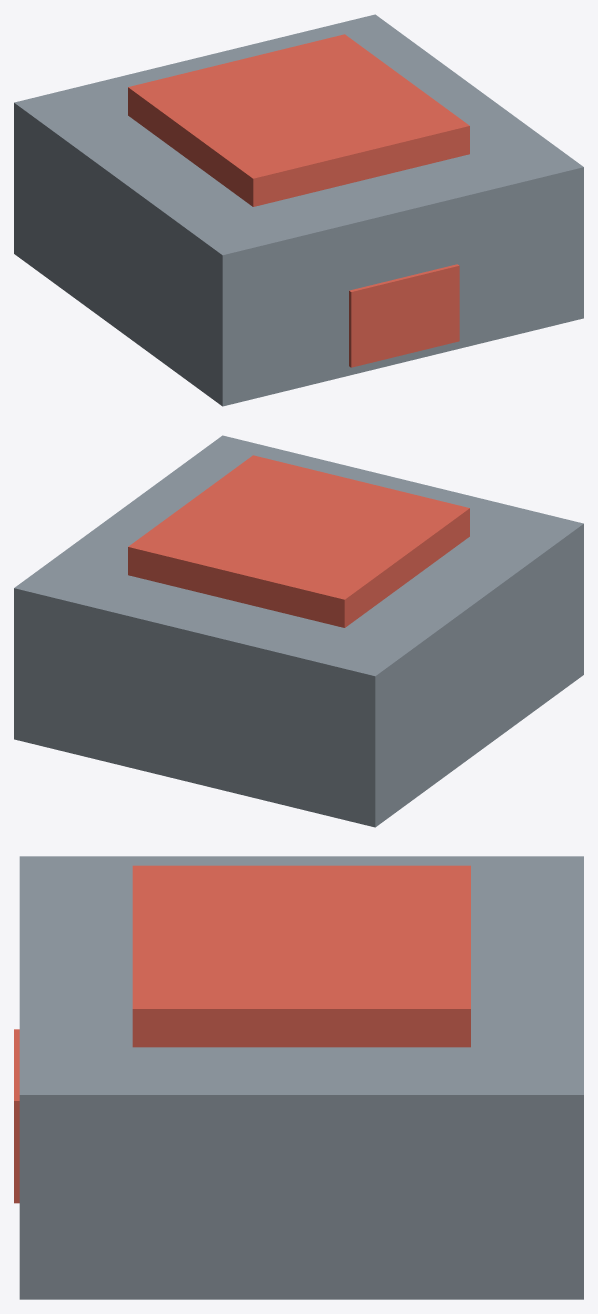
The model's file is SU_NavalYard_LOD0.glb.
3 renders of one model, top to bottom at view 1: azimuth 30°, elevation 25°; view 2: azimuth 150°, elevation 25°; view 3: azimuth 270°, elevation 25°, orthographic. The views are drawn at different scales.
Parts seen in each view (by area): view 1: EntranceGate; view 2: EntranceGate; view 3: EntranceGate.
Part boxes in pixels (box(x1,y1,x2,y2)): EntranceGate: box(14, 14, 583, 406); EntranceGate: box(14, 435, 583, 827); EntranceGate: box(14, 856, 583, 1299).
Size of the model in its own units: 1000 by 475 by 1010.
